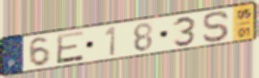1: (104, 25, 117, 58)
3: (171, 14, 197, 48)
6: (28, 35, 53, 68)
8: (133, 22, 155, 53)
E: (55, 29, 86, 65)
S: (202, 10, 232, 44)
